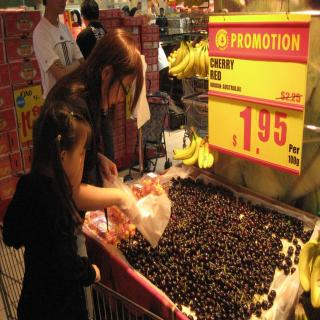Banana: (172, 125, 218, 168), (168, 33, 204, 76), (298, 240, 320, 291), (309, 245, 320, 307)
